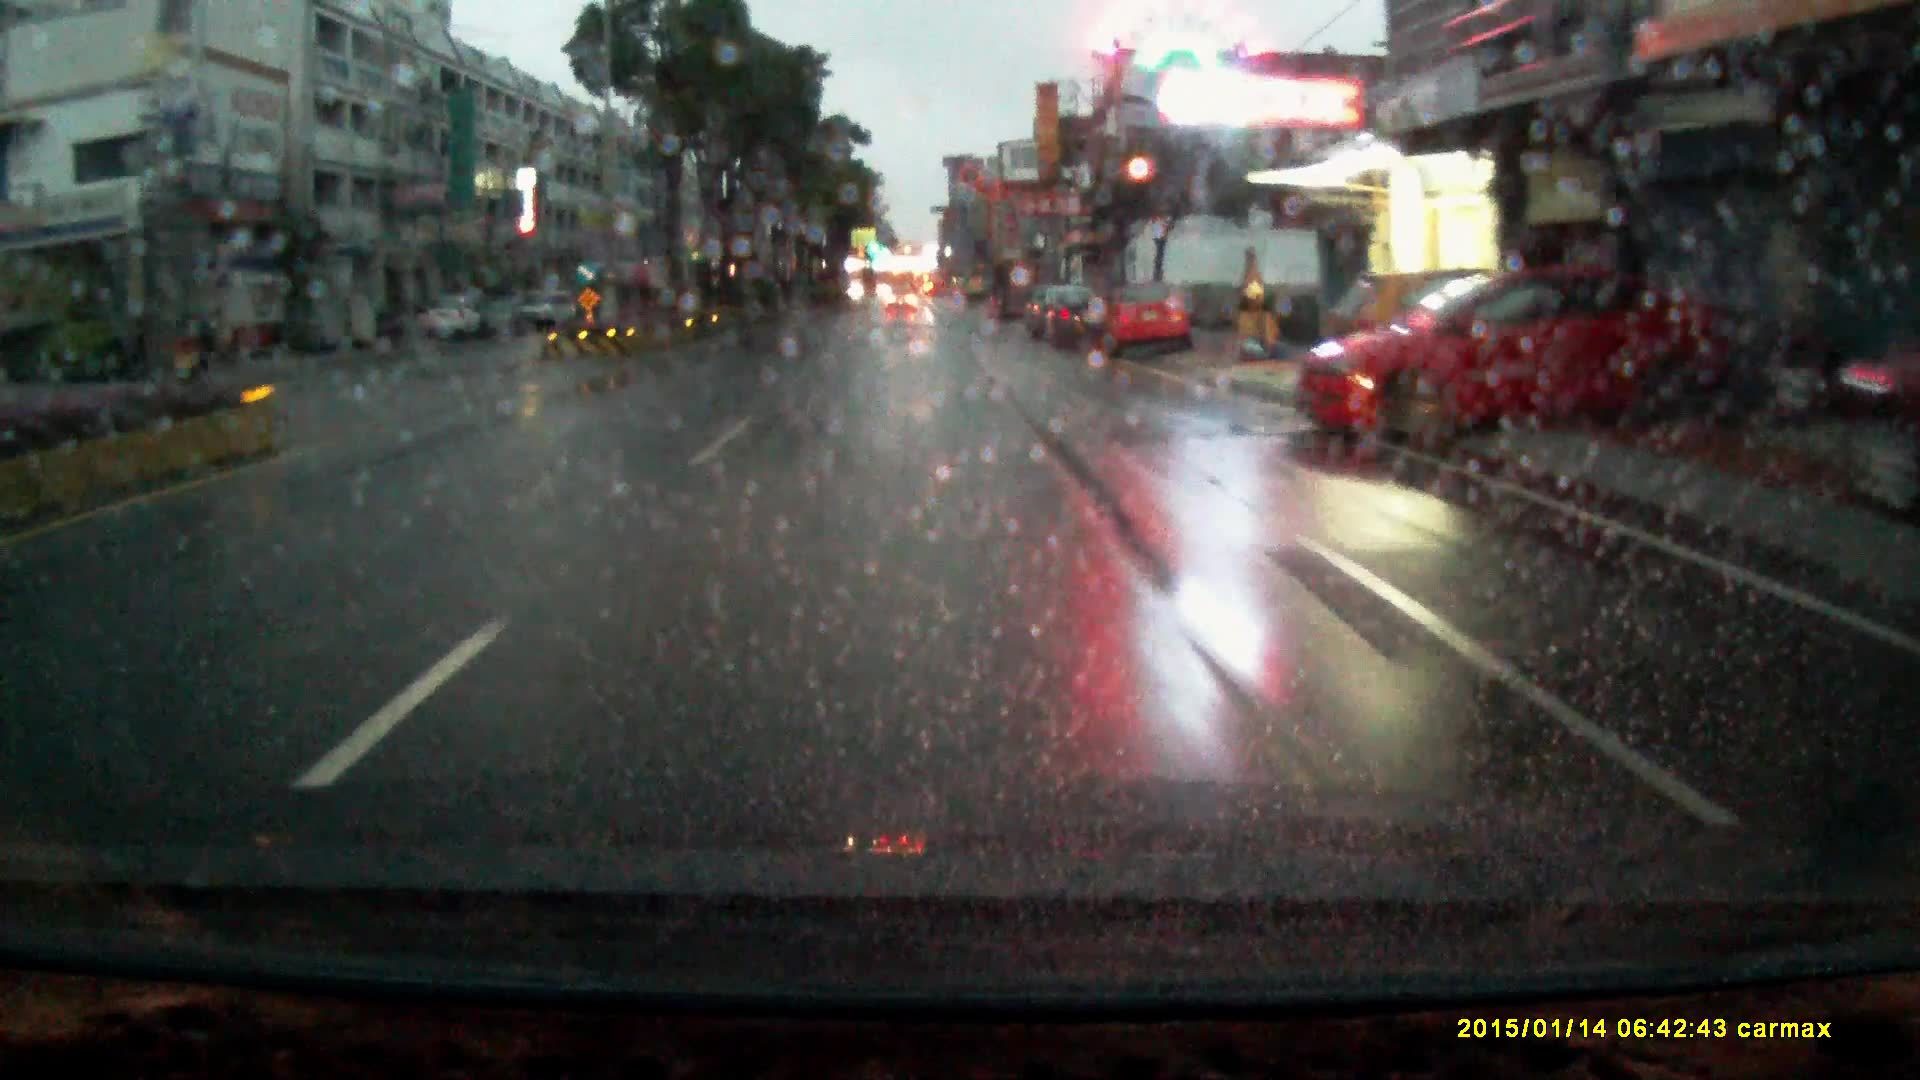vehicle: (1296, 272, 1743, 452), (1096, 287, 1197, 365), (1042, 287, 1112, 357), (423, 295, 485, 347), (520, 295, 582, 338), (886, 295, 918, 322)
